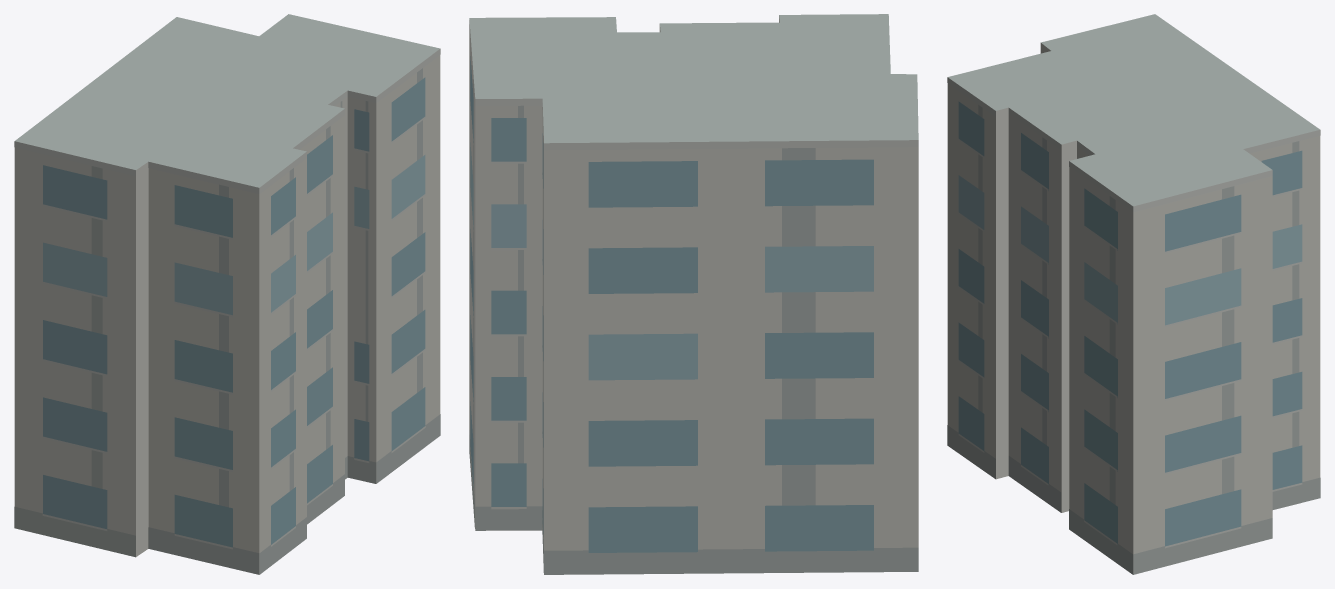
The model's file is survey-upis-32800568.glb.
The picture shows the model from 3 angles, left to right: view 1: azimuth 30°, elevation 25°; view 2: azimuth 150°, elevation 25°; view 3: azimuth 270°, elevation 25°; orthographic projection. The views are drawn at different scales.
Parts seen in each view (by area): view 1: survey-upis-32800568.tmp; view 2: survey-upis-32800568.tmp; view 3: survey-upis-32800568.tmp.
Part boxes in pixels (x1=…): survey-upis-32800568.tmp: x1=14, y1=14, x2=440, y2=574; survey-upis-32800568.tmp: x1=469, y1=14, x2=918, y2=574; survey-upis-32800568.tmp: x1=947, y1=14, x2=1320, y2=574.
Bounding box in the file's own units: 16.81 × 15 × 13.77.
